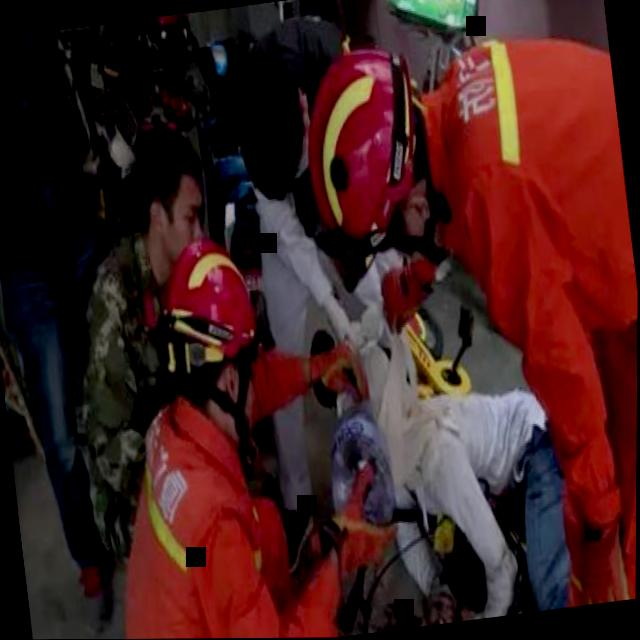Fall-Detected: (287, 390, 485, 638)
